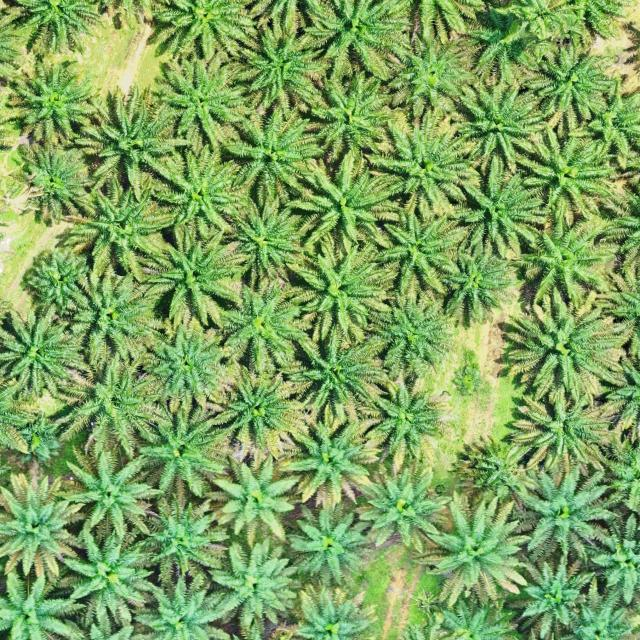Tree: (500, 286, 634, 406), (276, 235, 398, 350), (138, 216, 255, 334), (54, 352, 175, 464), (508, 456, 626, 568), (415, 489, 527, 605), (282, 318, 394, 429), (372, 103, 479, 217), (278, 157, 400, 255), (507, 200, 621, 304), (65, 87, 182, 187), (450, 148, 551, 262), (224, 98, 328, 208), (55, 518, 160, 626), (121, 397, 230, 501), (64, 260, 164, 371), (299, 61, 401, 166), (274, 409, 381, 509), (52, 444, 155, 547), (56, 178, 160, 280), (359, 363, 452, 474), (146, 139, 249, 239), (523, 119, 622, 223), (217, 271, 316, 375), (208, 192, 311, 291), (151, 54, 248, 158), (346, 458, 451, 554), (359, 284, 460, 383), (205, 531, 303, 632), (224, 20, 326, 115), (508, 385, 614, 476), (376, 205, 471, 306), (446, 77, 542, 174), (203, 452, 297, 546), (518, 40, 616, 130), (130, 492, 223, 585), (277, 499, 376, 586), (301, 0, 406, 80), (385, 32, 477, 123), (140, 318, 233, 407), (507, 552, 603, 638), (0, 473, 75, 582), (0, 304, 81, 402), (4, 59, 92, 148), (206, 366, 295, 450), (128, 567, 230, 640), (0, 563, 93, 640), (6, 140, 88, 224), (274, 579, 384, 640), (434, 240, 515, 322), (545, 573, 640, 640), (575, 79, 640, 172), (445, 430, 530, 500), (585, 507, 640, 612), (3, 0, 98, 58), (0, 356, 45, 478), (594, 163, 640, 282), (146, 0, 232, 62), (19, 249, 95, 315), (599, 324, 640, 444), (466, 22, 539, 88), (428, 592, 522, 640), (371, 0, 491, 36), (489, 0, 587, 43), (595, 259, 640, 351), (594, 434, 640, 520), (248, 0, 346, 40), (539, 0, 630, 40), (0, 0, 24, 91), (391, 620, 478, 640), (0, 266, 15, 361), (95, 0, 173, 17), (0, 85, 17, 158)
